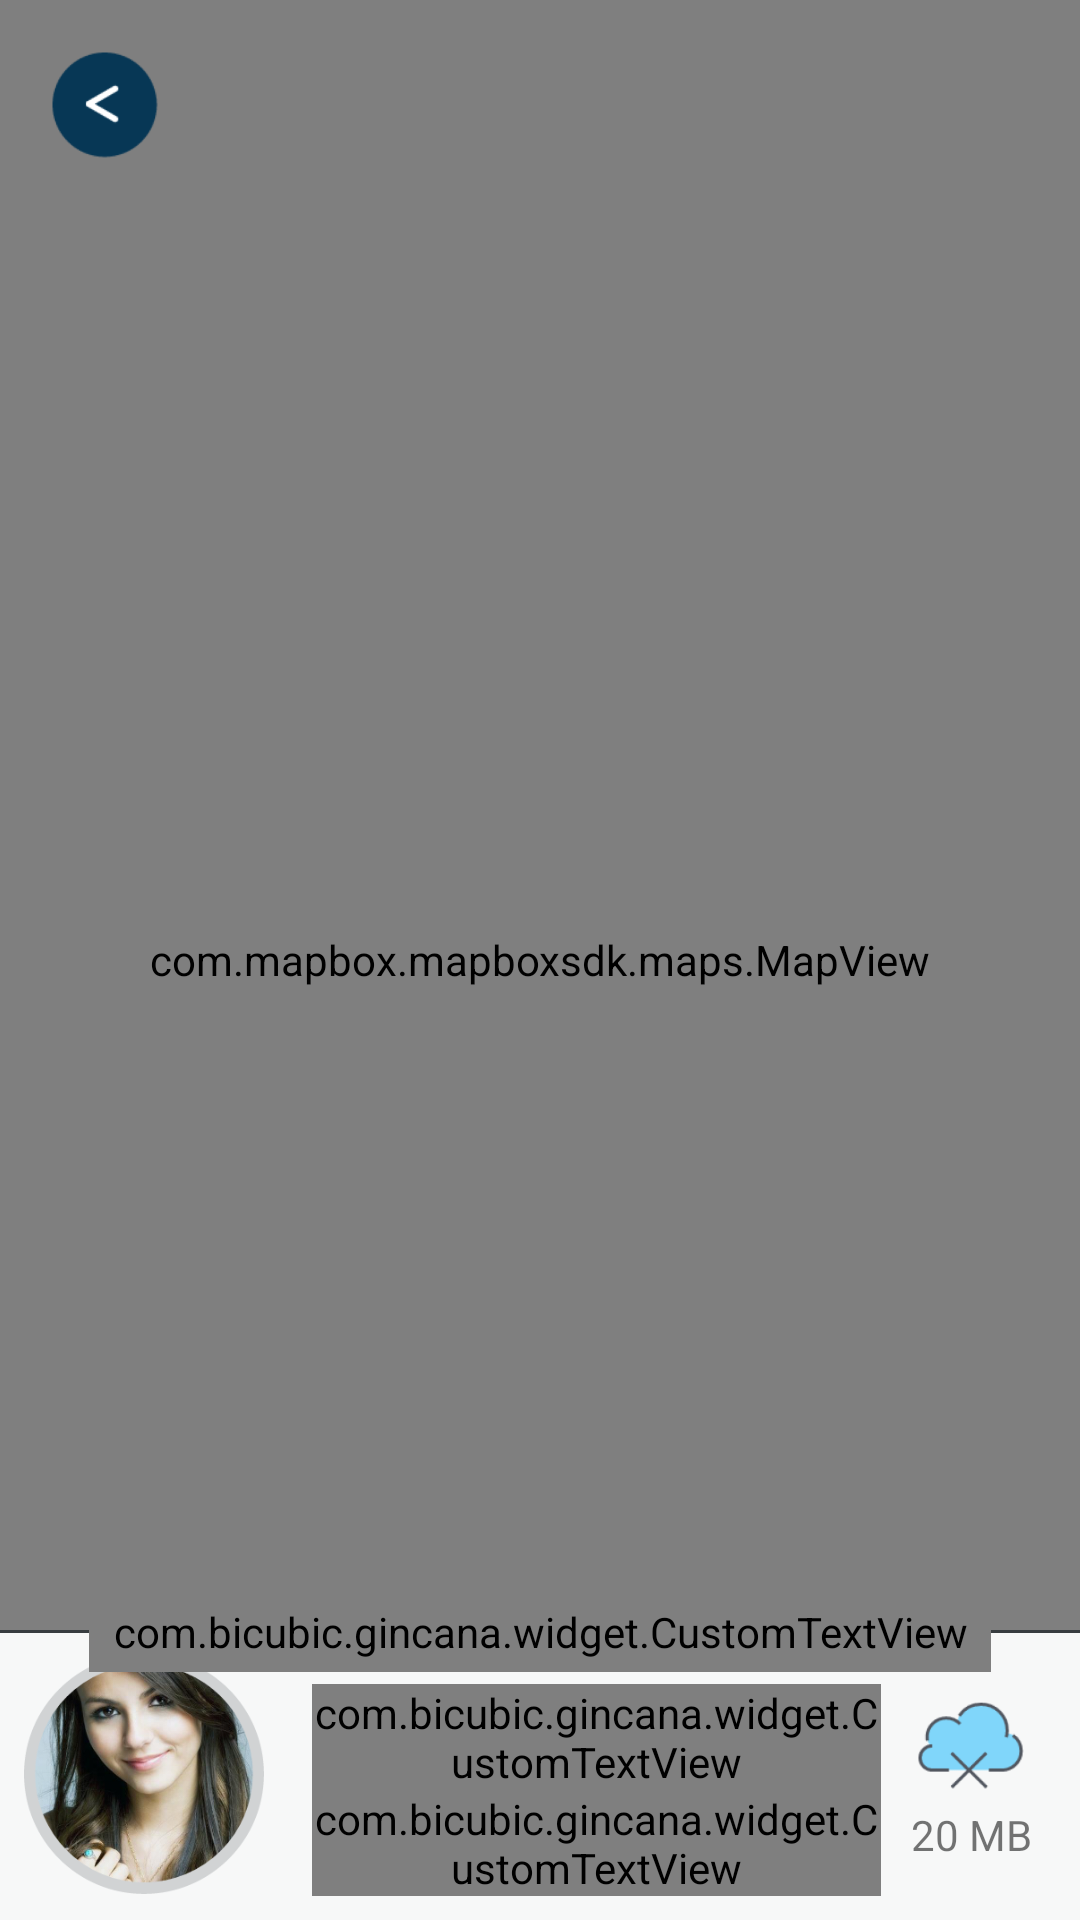

Screen size 1080px×1920px. Icon name, then its box in pixels as (x1, y1, x2, y2):
profile: (24, 1654, 264, 1894)
